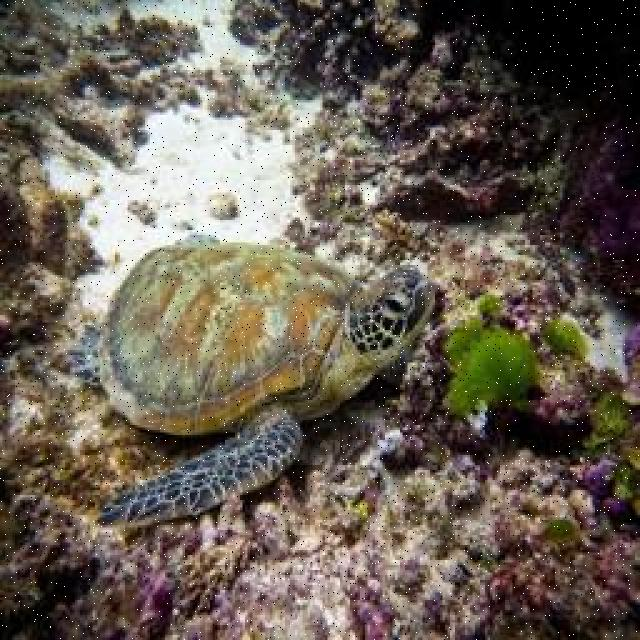aquatic plants: (445, 296, 539, 413), (584, 371, 638, 458), (546, 319, 591, 357), (545, 518, 574, 535)
fish: (66, 242, 438, 529)
